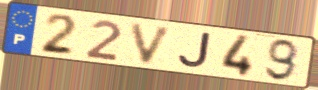2: (85, 18, 125, 63), (41, 13, 81, 57)
4: (219, 33, 256, 78)
9: (264, 37, 302, 83)
J: (176, 31, 213, 70)
V: (129, 22, 176, 67)
